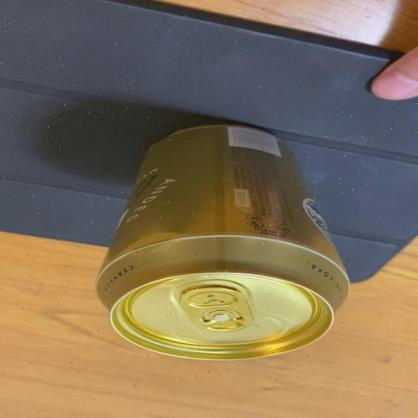can: (93, 119, 351, 362)
